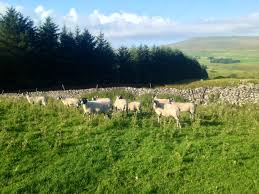sheep: (165, 96, 198, 119), (151, 101, 179, 127), (55, 94, 83, 116), (21, 92, 51, 111), (80, 96, 105, 118), (109, 93, 129, 117), (125, 100, 142, 122), (91, 94, 112, 107)
